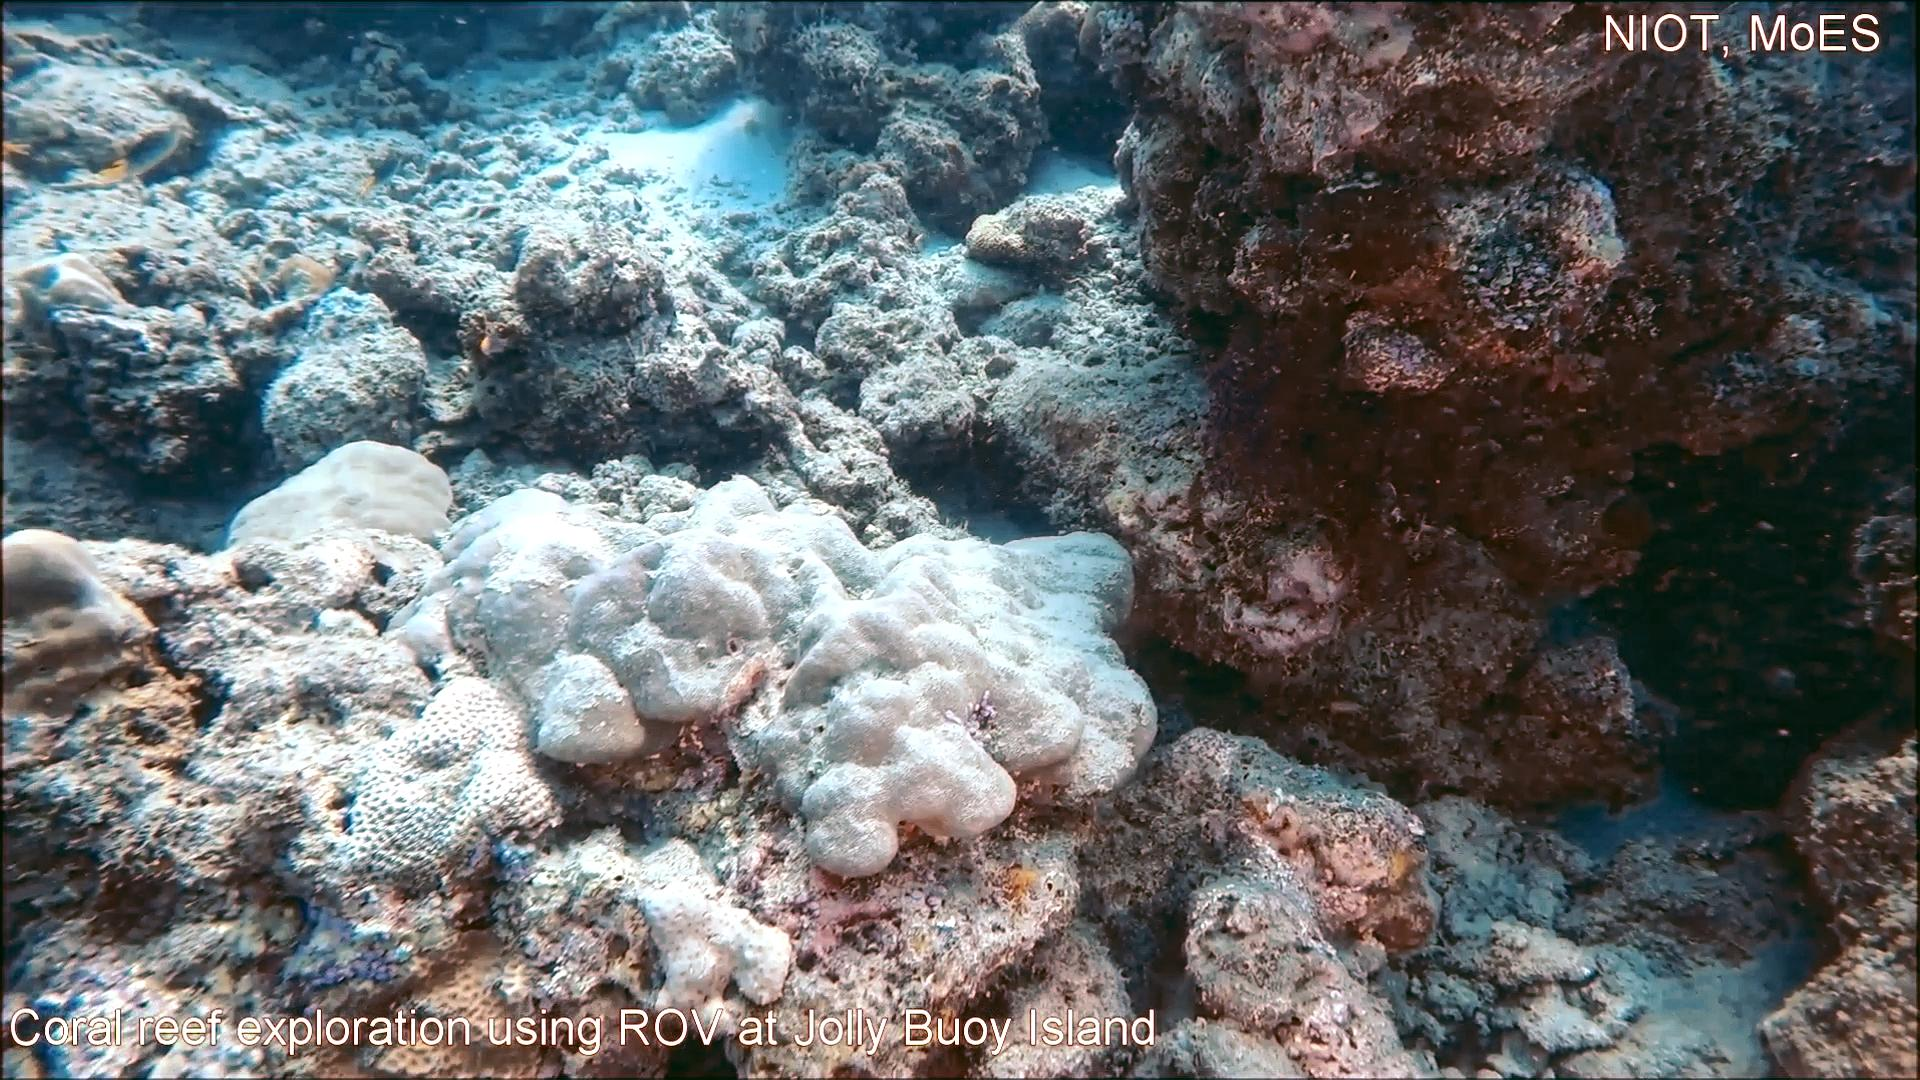Goniastrea-Goniastrea pectinata: (344, 668, 565, 889)
Gorgonian-Purple Plexaura: (1196, 296, 1490, 644)
Porites-Porites pukoensis: (644, 472, 1163, 882)
